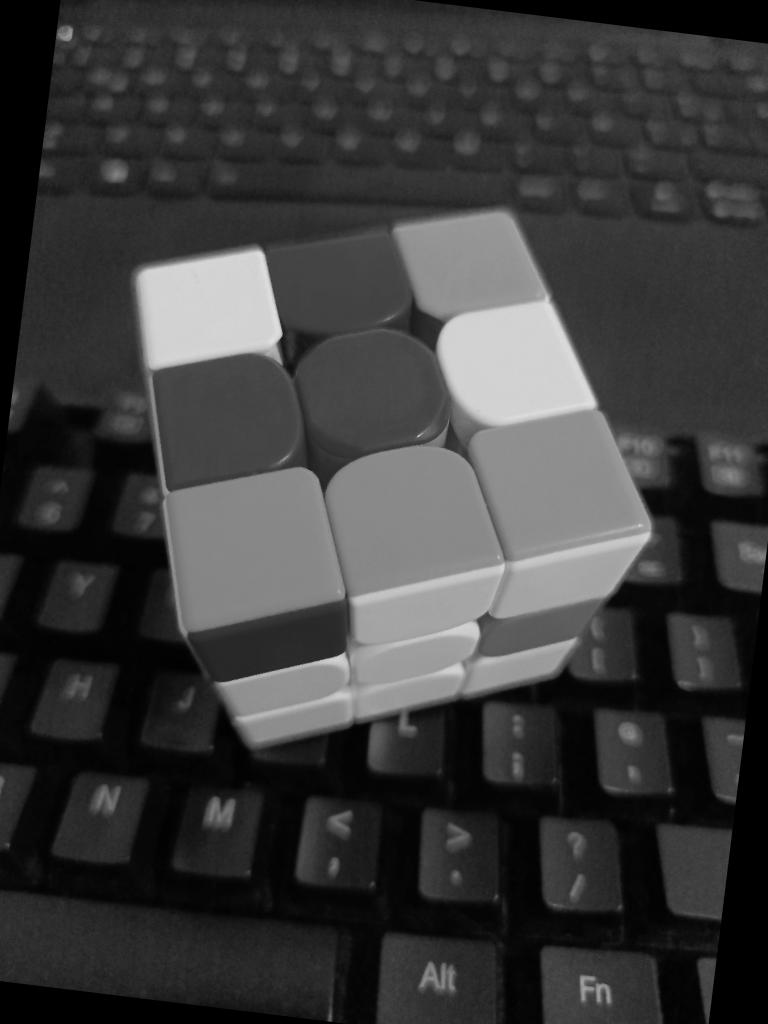rubik: (73, 160, 691, 795)
